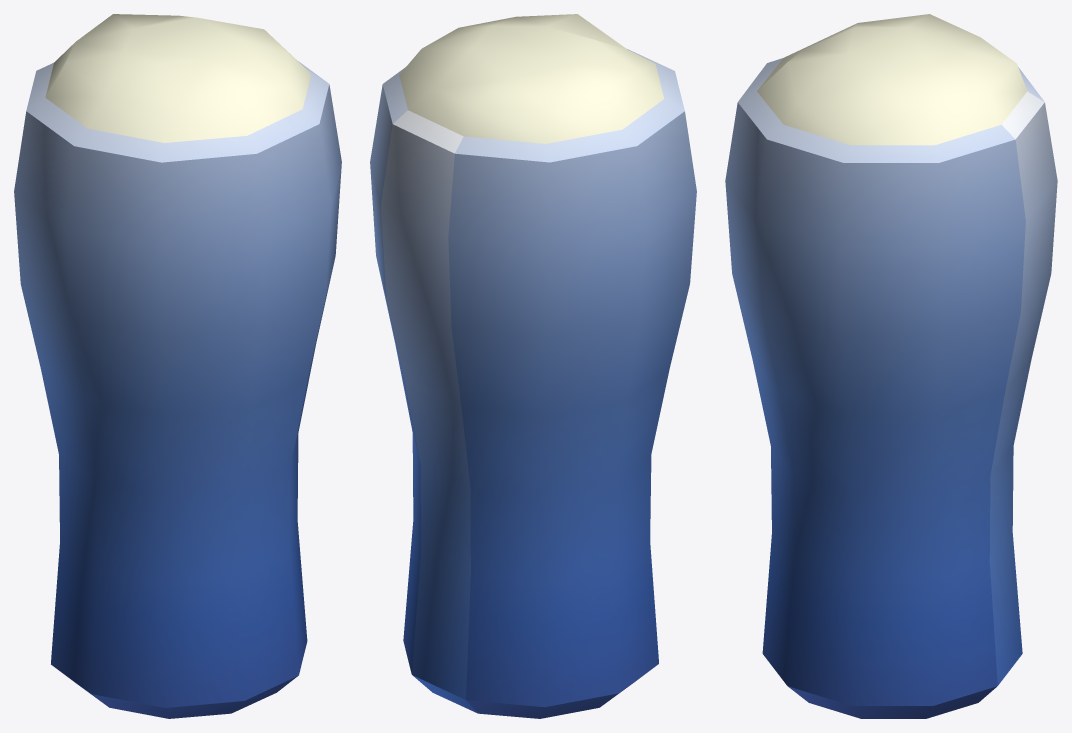
Rendered from m_WheatAleBeer01.fbx.
3 renders of one model, left to right at view 1: azimuth 30°, elevation 25°; view 2: azimuth 150°, elevation 25°; view 3: azimuth 270°, elevation 25°, orthographic.
Parts seen in each view (by area): view 1: m_WheatAleBeer01; view 2: m_WheatAleBeer01; view 3: m_WheatAleBeer01.
Part boxes in pixels (x1,y1,x2,y2): m_WheatAleBeer01: (14,14,341,718); m_WheatAleBeer01: (370,14,696,718); m_WheatAleBeer01: (725,14,1057,718).
Size of the model in its own units: 14.18 by 31.09 by 14.91.
